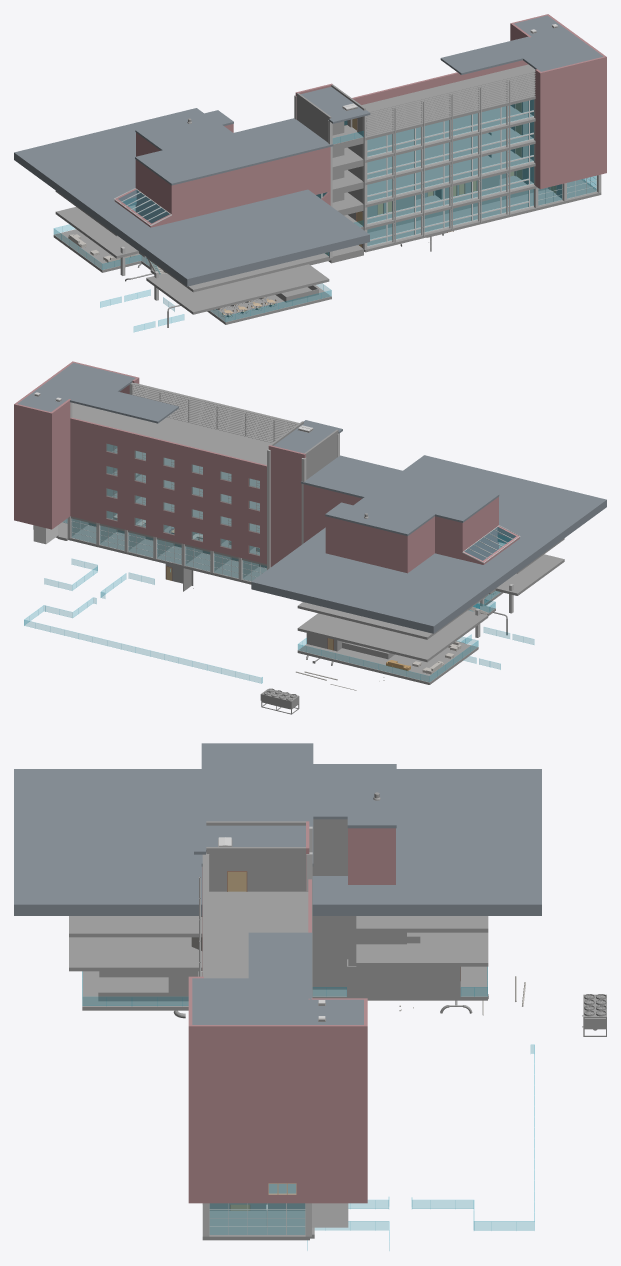
The picture shows the model from 3 angles, top to bottom: view 1: azimuth 30°, elevation 25°; view 2: azimuth 150°, elevation 25°; view 3: azimuth 270°, elevation 25°; orthographic projection. The views are drawn at different scales.
Visible parts, largest first — view 1: 2KfpxTSnH0xfEb1Txf7ZtR, 29cnUmuJX57htVvJIbDXaC, 08f4t_E$rBBQFcxLfljANY, 0vmpfXygz7uuHDQdlxqLtB, 2KfpxTSnH0xfEb1Txf7ZoX, 0A_uwLmzDFwxF1KgW45KZ9, 08f4t_E$rBBQFcvLzljACh, 0A_uwLmzDFwxF1KgW45Kgt, 1j1L$VHiTCbAyTGLxsGpz4, 1j1L$VHiTCbAyTGLxsGp$w, 1j1L$VHiTCbAyTGLxsGp_e, 08f4t_E$rBBQFcvLvljACh (+22 smaller); view 2: 2KfpxTSnH0xfEb1Txf7ZtR, 29cnUmuJX57htVvJIbDXaC, 08f4t_E$rBBQFcxLfljANY, 2KfpxTSnH0xfEb1Txf7ZoX, 2N8Cd2RGP5i9wScacjj2zY, 2N8Cd2RGP5i9wScawjj2zY, 2N8Cd2RGP5i9wScagjj2zY, 1j1L$VHiTCbAyTGLxsGpwN, 0vmpfXygz7uuHDQdlxqLtB, 0A_uwLmzDFwxF1KgW45Kgt, 0A_uwLmzDFwxF1KgW45KZ9, 2N8Cd2RGP5i9wSca_jj2zY (+29 smaller); view 3: 2KfpxTSnH0xfEb1Txf7ZtR, 29cnUmuJX57htVvJIbDXaC, 2KfpxTSnH0xfEb1Txf7ZoX, 08f4t_E$rBBQFcxLfljANY, 0A_uwLmzDFwxF1Mgu45LRu, 0A_uwLmzDFwxF1Mge45LRu, 1j1L$VHiTCbAyTGLxsGpwN, 0A_uwLmzDFwxF1Mgq45LRu, 0A_uwLmzDFwxF1Mga45LRu, 1pxIWsdLL5Ie6o6iDfZA09, 0A_uwLmzDFwxF1KgW45Kgt, 0A_uwLmzDFwxF1Mgm45LRu (+20 smaller).
Boxes of the visible parts, x1,y1,x2,y2 form: 2KfpxTSnH0xfEb1Txf7ZtR: (14, 108, 369, 286); 29cnUmuJX57htVvJIbDXaC: (135, 110, 333, 185); 08f4t_E$rBBQFcxLfljANY: (55, 207, 329, 314); 0vmpfXygz7uuHDQdlxqLtB: (366, 70, 535, 137); 2KfpxTSnH0xfEb1Txf7ZoX: (440, 15, 603, 74); 0A_uwLmzDFwxF1KgW45KZ9: (364, 179, 601, 252); 08f4t_E$rBBQFcvLzljACh: (174, 147, 330, 206); 0A_uwLmzDFwxF1KgW45Kgt: (53, 229, 331, 324); 1j1L$VHiTCbAyTGLxsGpz4: (365, 105, 535, 162); 1j1L$VHiTCbAyTGLxsGp$w: (365, 128, 535, 185); 1j1L$VHiTCbAyTGLxsGp_e: (365, 150, 535, 207); 08f4t_E$rBBQFcvLvljACh: (174, 169, 330, 221); 2KfpxTSnH0xfEb1Txf7ZtR: (251, 455, 606, 633); 29cnUmuJX57htVvJIbDXaC: (301, 455, 499, 536); 08f4t_E$rBBQFcxLfljANY: (297, 554, 564, 662); 2KfpxTSnH0xfEb1Txf7ZoX: (17, 362, 178, 423); 2N8Cd2RGP5i9wScacjj2zY: (70, 471, 266, 541); 2N8Cd2RGP5i9wScawjj2zY: (70, 427, 266, 496); 2N8Cd2RGP5i9wScagjj2zY: (70, 494, 266, 564); 1j1L$VHiTCbAyTGLxsGpwN: (72, 403, 271, 464); 0vmpfXygz7uuHDQdlxqLtB: (131, 383, 299, 442); 0A_uwLmzDFwxF1KgW45Kgt: (297, 590, 503, 684); 0A_uwLmzDFwxF1KgW45KZ9: (56, 518, 266, 584); 2N8Cd2RGP5i9wSca_jj2zY: (70, 449, 266, 511); 2KfpxTSnH0xfEb1Txf7ZtR: (14, 769, 541, 915); 29cnUmuJX57htVvJIbDXaC: (201, 743, 396, 866); 2KfpxTSnH0xfEb1Txf7ZoX: (192, 932, 363, 1024); 08f4t_E$rBBQFcxLfljANY: (69, 932, 488, 971); 0A_uwLmzDFwxF1Mgu45LRu: (188, 1029, 363, 1066); 0A_uwLmzDFwxF1Mge45LRu: (188, 1135, 363, 1169); 1j1L$VHiTCbAyTGLxsGpwN: (209, 891, 308, 978); 0A_uwLmzDFwxF1Mgq45LRu: (188, 1067, 363, 1100); 0A_uwLmzDFwxF1Mga45LRu: (188, 1169, 363, 1203); 1pxIWsdLL5Ie6o6iDfZA09: (69, 916, 488, 937); 0A_uwLmzDFwxF1KgW45Kgt: (82, 966, 487, 1010); 0A_uwLmzDFwxF1Mgm45LRu: (188, 1101, 363, 1123).
Bounding box in the file's own units: 81.59 × 29.07 × 57.62.
